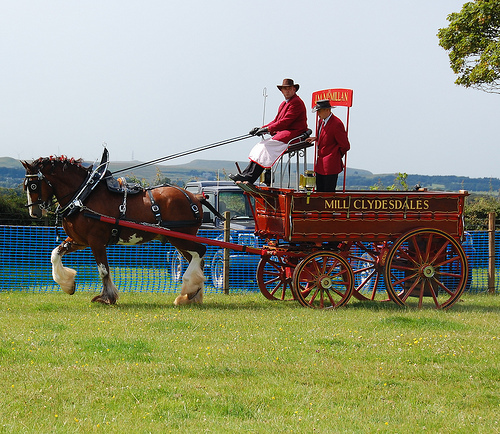horse: (21, 152, 210, 309)
